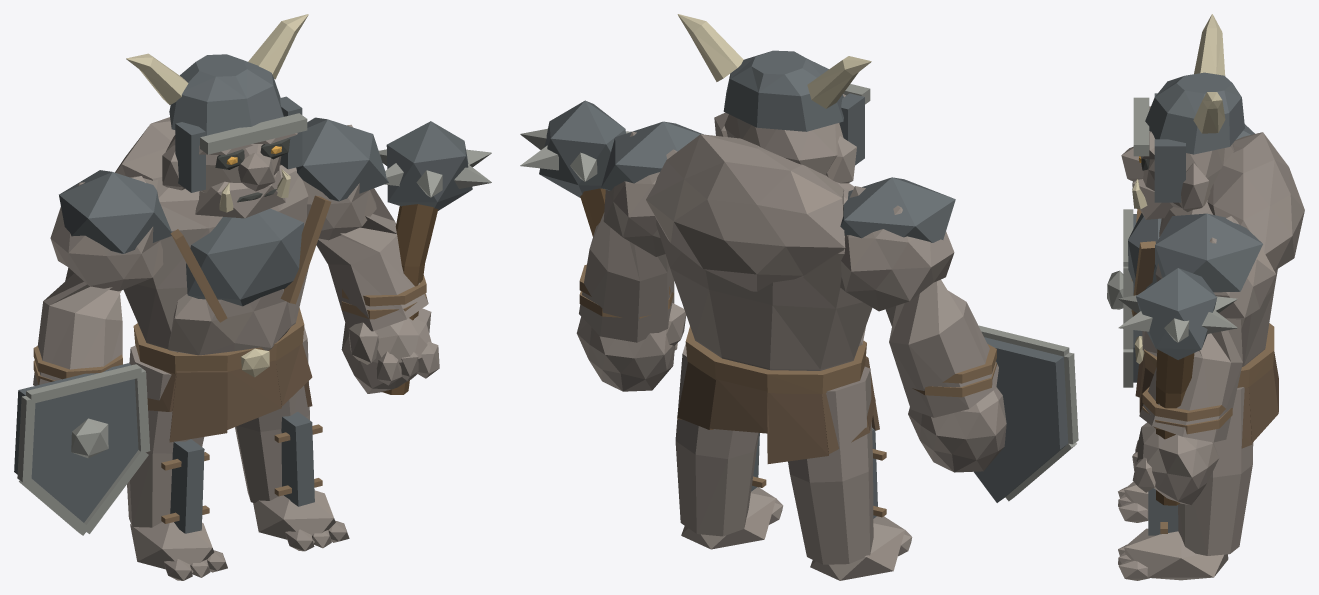
Rendered from Cave_Guardian.glb.
The picture shows the model from 3 angles, left to right: view 1: azimuth 30°, elevation 25°; view 2: azimuth 150°, elevation 25°; view 3: azimuth 270°, elevation 25°; orthographic projection. The views are drawn at different scales.
Visible parts, largest first — view 1: Torso, Shield, Leg_R, Arm_L, Leg_L, Weapon, Arm_R; view 2: Torso, Leg_R, Arm_R, Shield, Leg_L, Arm_L, Weapon; view 3: Torso, Leg_L, Weapon, Arm_L, Shield, Leg_R.
Boxes of the visible parts, x1,y1,x2,y2 form: Torso: (113,14,375,358); Shield: (14,170,171,535); Leg_R: (127,326,281,580); Arm_L: (316,124,439,389); Leg_L: (228,322,414,551); Weapon: (303,117,491,394); Arm_R: (33,182,152,385); Torso: (629,14,891,374); Leg_R: (715,344,1003,580); Arm_R: (846,205,1006,472); Shield: (840,177,1078,502); Leg_L: (602,339,783,549); Arm_L: (576,131,686,391); Weapon: (520,100,703,236); Torso: (1121,14,1304,370); Leg_L: (1118,344,1278,580); Weapon: (1118,213,1262,505); Arm_L: (1132,216,1275,504); Shield: (1107,124,1254,387); Leg_R: (1118,351,1278,522).
Size of the model in its own units: 3.6 by 3.5 by 1.27.
